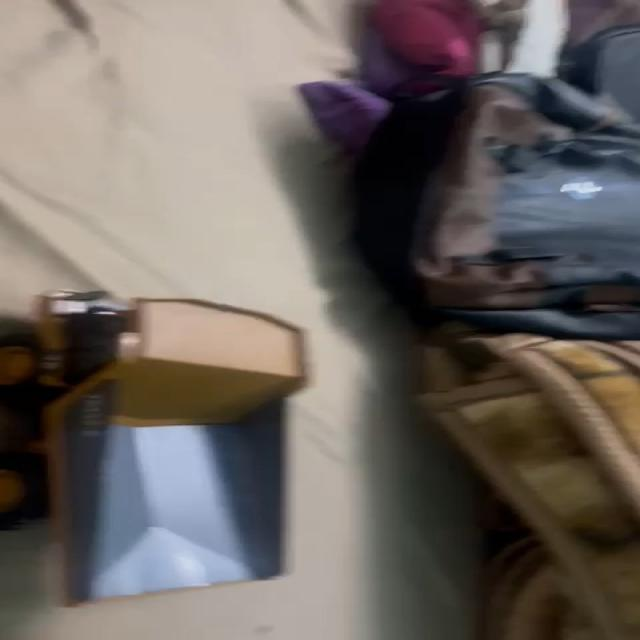dump_truck: (1, 290, 300, 585)
